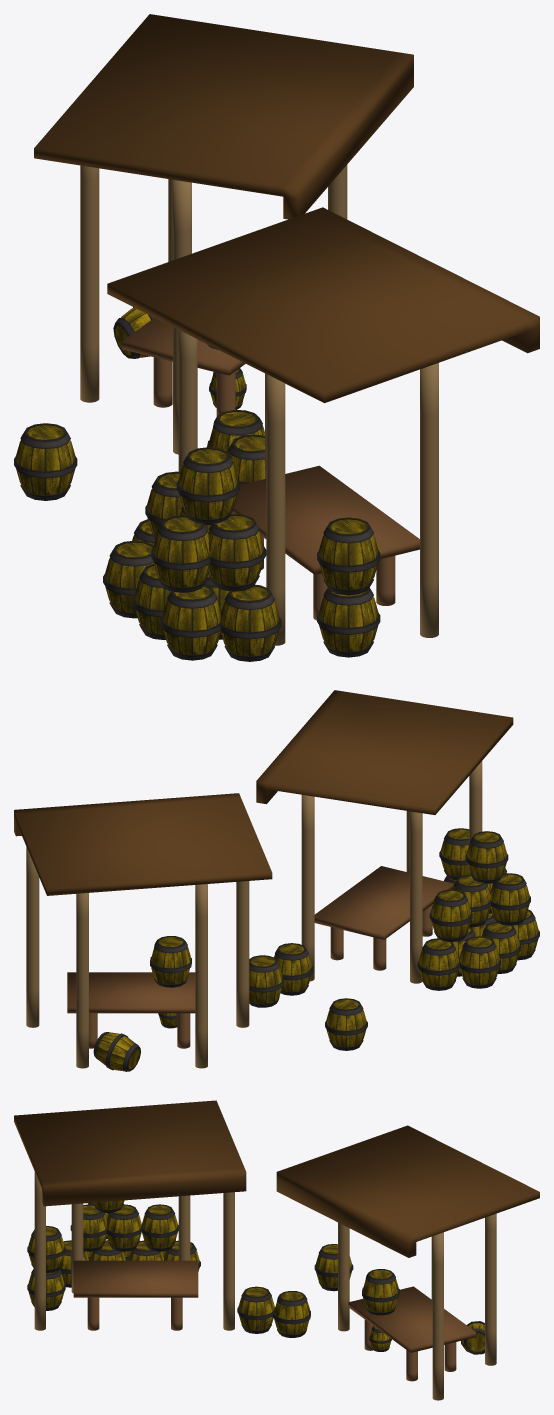
File: barrell.obj
The picture shows the model from 3 angles, top to bottom: view 1: azimuth 30°, elevation 25°; view 2: azimuth 150°, elevation 25°; view 3: azimuth 270°, elevation 25°; orthographic projection. The views are drawn at different scales.
Visible parts, largest first — view 1: Barell05; view 2: Barell05; view 3: Barell05.
Boxes of the visible parts, x1,y1,x2,y2 form: Barell05: (14,14,539,661); Barell05: (14,690,539,1071); Barell05: (14,1100,539,1400).
Size of the model in its own units: 8.47 by 4.6 by 12.4.
Materials: 2 (2 with a texture image).
